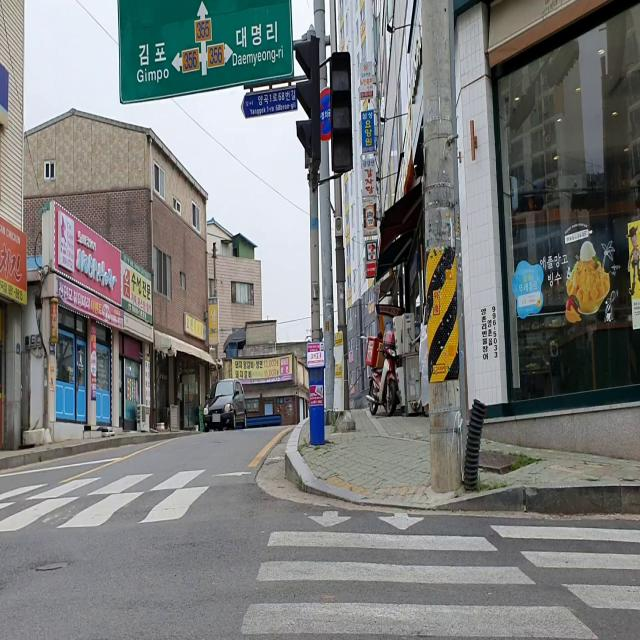횡단보도: (238, 506, 640, 640), (0, 468, 210, 528)
